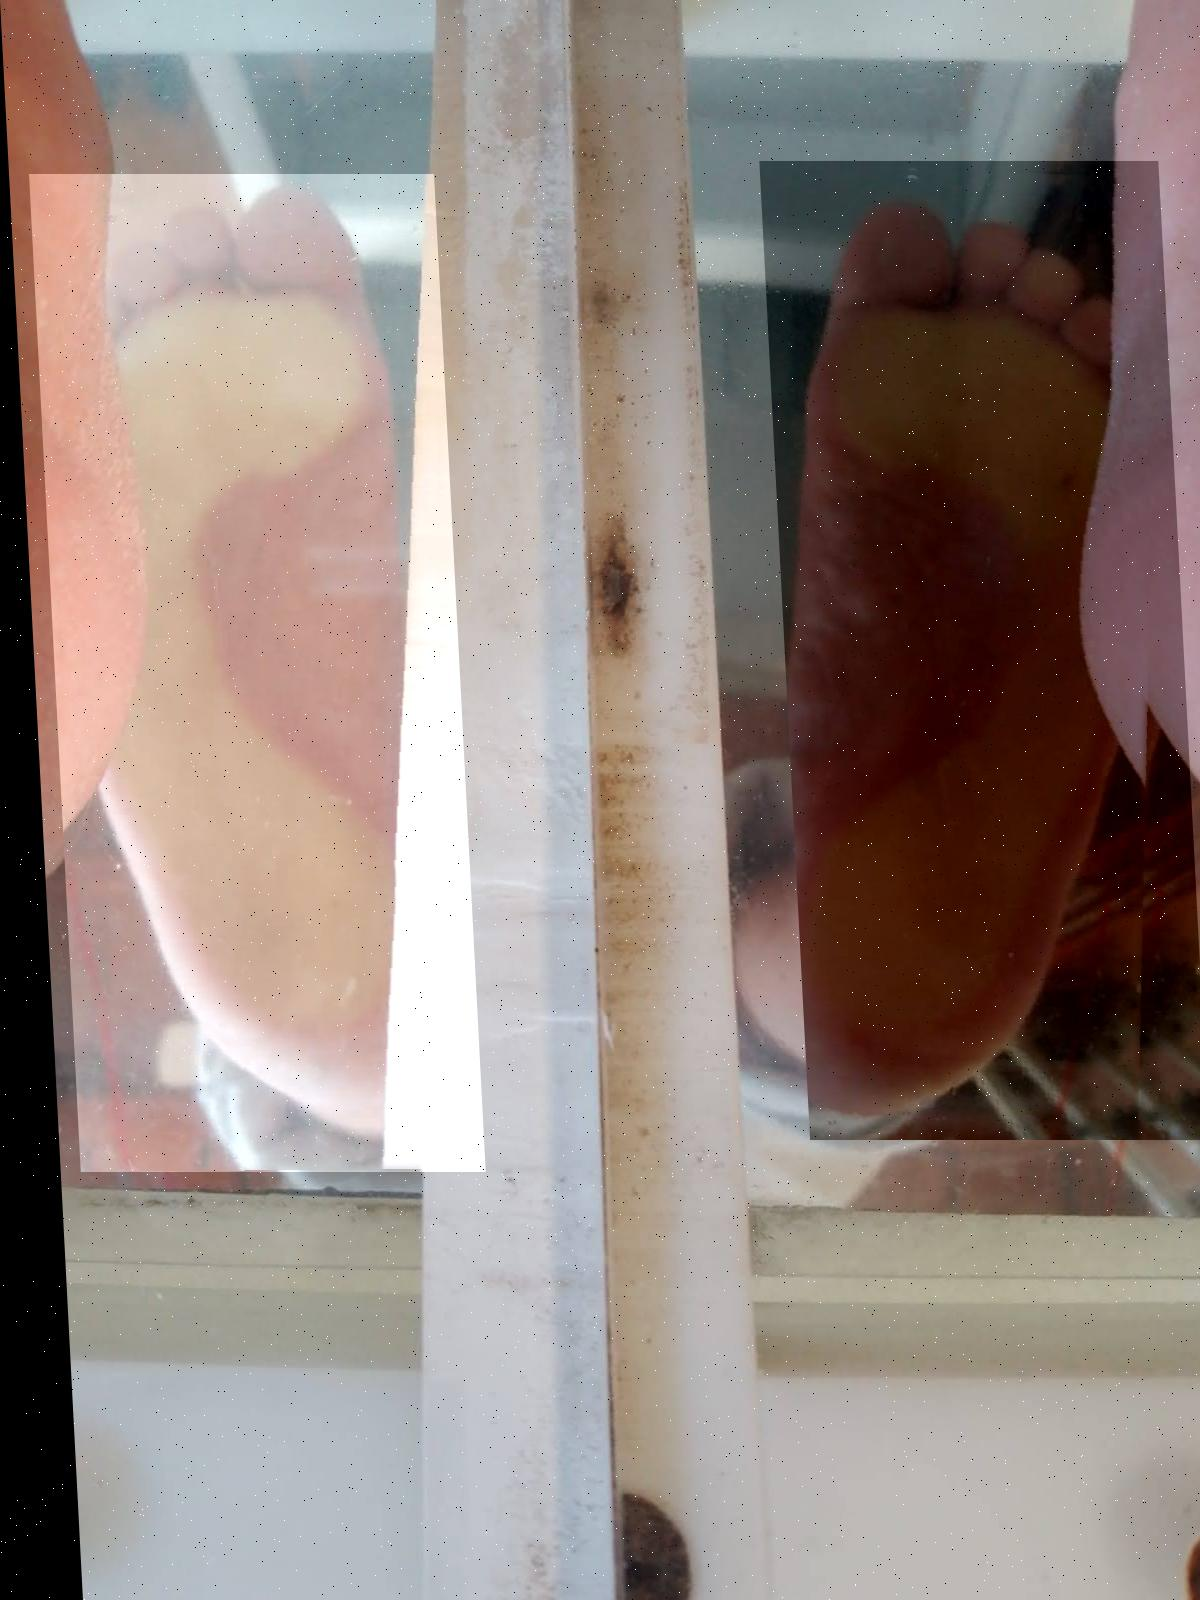Present: (28, 174, 474, 1172), (758, 161, 1196, 1140)
